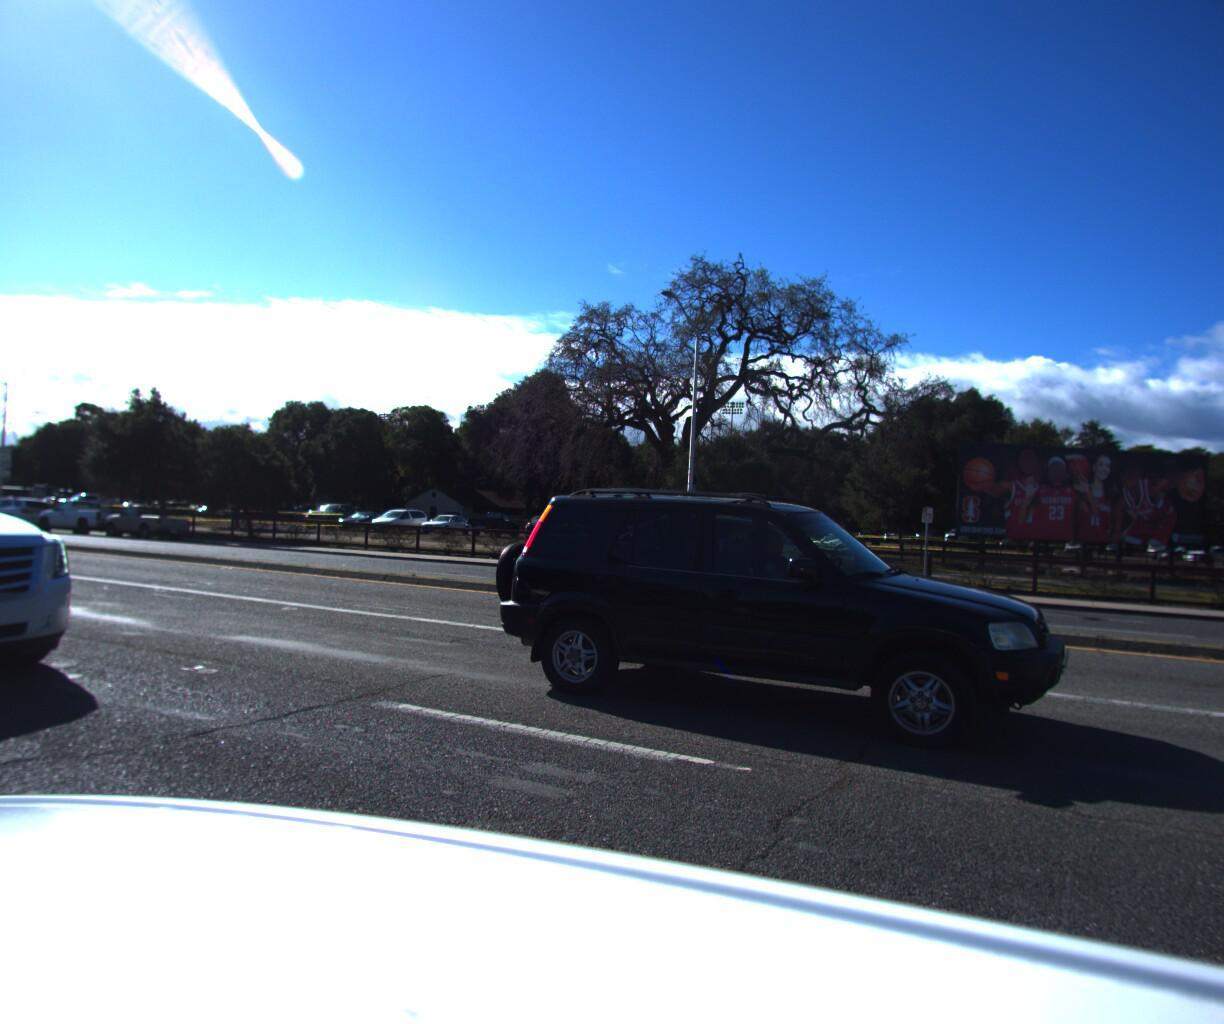car: (470, 474, 1086, 780), (0, 419, 107, 744), (566, 500, 820, 608), (30, 491, 141, 536), (98, 496, 198, 540), (0, 490, 61, 528)
